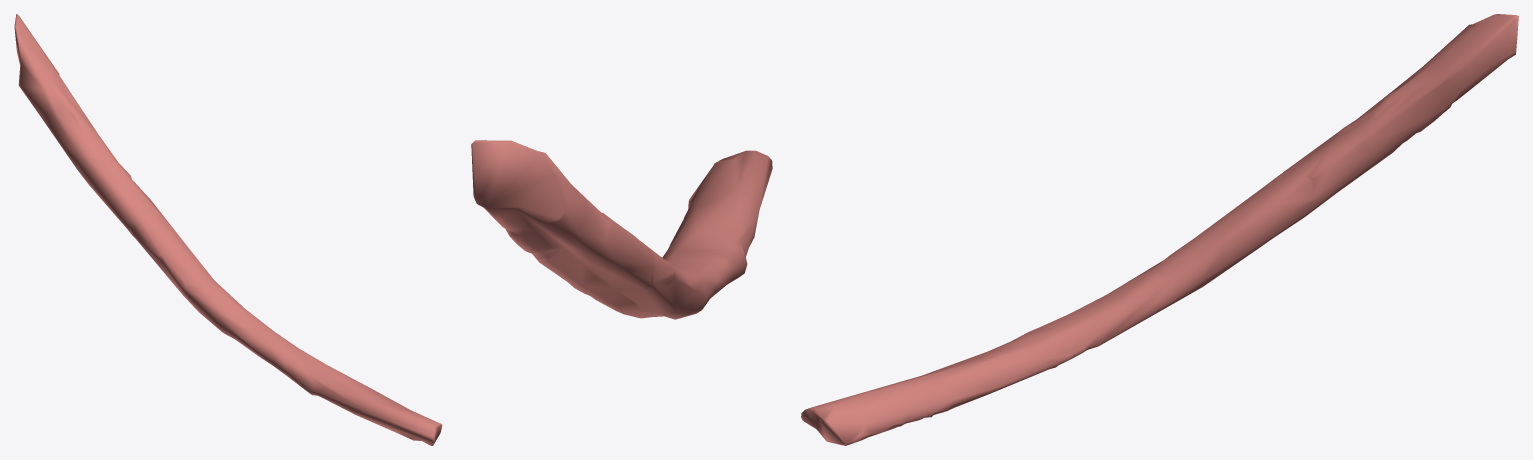
3 views of the same model, side by side, from view 1: azimuth 30°, elevation 25°; view 2: azimuth 150°, elevation 25°; view 3: azimuth 270°, elevation 25° (orthographic). The views are drawn at different scales.
Visible parts, largest first — view 1: ZA_241ffaf4a05873ec; view 2: ZA_241ffaf4a05873ec; view 3: ZA_241ffaf4a05873ec.
Part boxes in pixels (x1=…): ZA_241ffaf4a05873ec: x1=14, y1=14, x2=442, y2=445; ZA_241ffaf4a05873ec: x1=471, y1=140, x2=772, y2=319; ZA_241ffaf4a05873ec: x1=801, y1=14, x2=1518, y2=445.
Size of the model in its own units: 0.0238 by 0.0341 by 0.0653.
